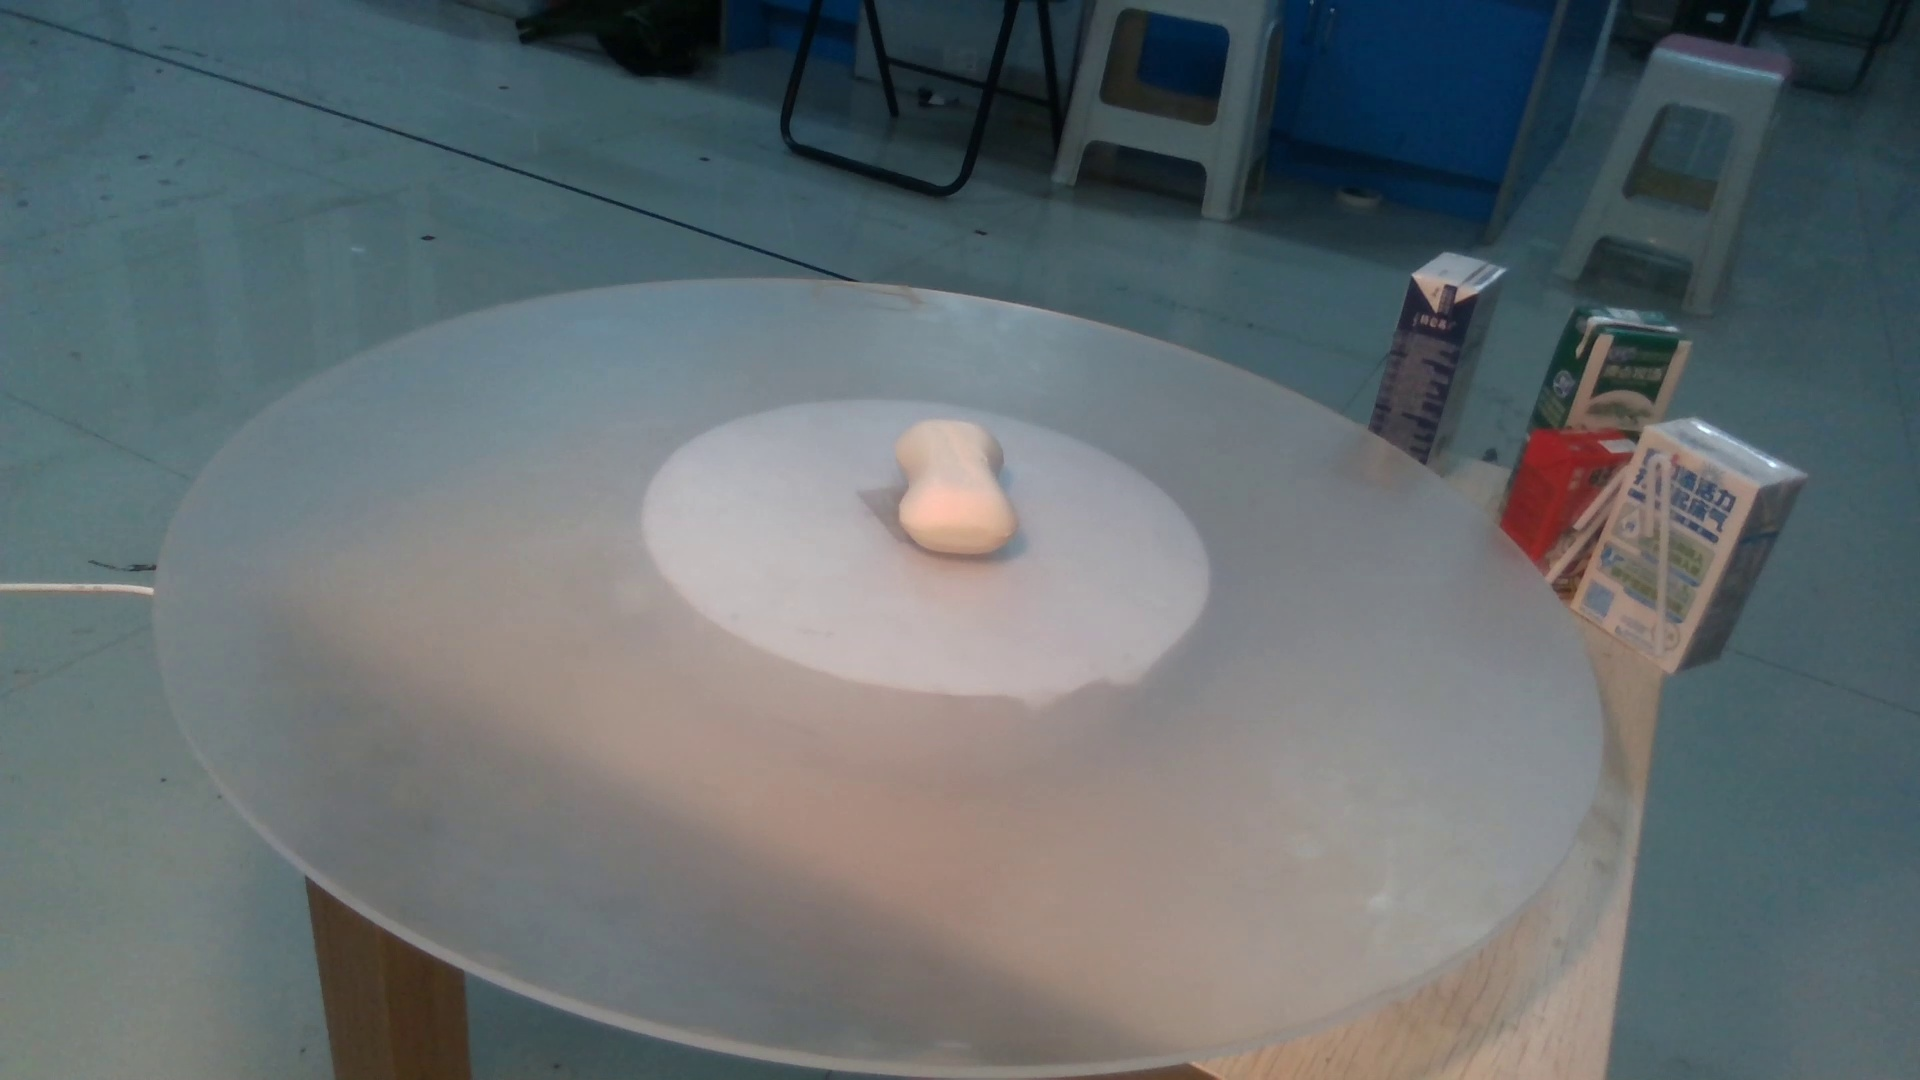CA003_1: (851, 400, 1043, 562)
